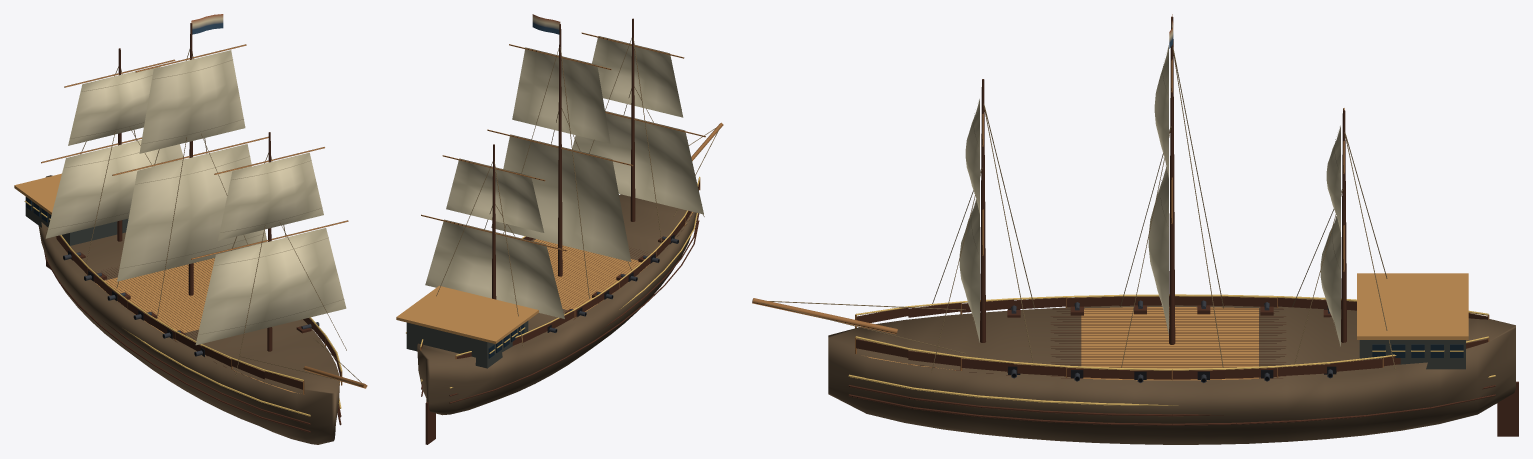
The model's file is voc-lod1.glb.
3 renders of one model, left to right at view 1: azimuth 30°, elevation 25°; view 2: azimuth 150°, elevation 25°; view 3: azimuth 270°, elevation 25°, orthographic. The views are drawn at different scales.
Parts seen in each view (by area): view 1: hull, sail_03, sail_05, sail_04, sail_01, sail_06, deck, sail_02, fittings_wood, fittings_deck, fittings_trim, stern_gallery_body (+6 smaller); view 2: hull, sail_03, sail_01, sail_05, sail_04, fittings_deck, sail_06, sail_02, deck, fittings_wood, fittings_trim, stern_gallery_body (+9 smaller); view 3: hull, fittings_deck, fittings_wood, deck, fittings_trim, sail_03, sail_05, stern_gallery_body, sail_01, mast_timber_02, fittings_iron, mast_timber_03 (+5 smaller).
Part boxes in pixels (left/top/right/bottom): hull: left=38, top=175, right=339, bottom=444; sail_03: left=117, top=144, right=267, bottom=281; sail_05: left=195, top=228, right=346, bottom=345; sail_04: left=139, top=50, right=245, bottom=153; sail_01: left=45, top=139, right=183, bottom=238; sail_06: left=218, top=152, right=323, bottom=240; deck: left=96, top=258, right=340, bottom=393; sail_02: left=68, top=66, right=159, bottom=145; fittings_wood: left=44, top=235, right=367, bottom=432; fittings_deck: left=14, top=173, right=314, bottom=384; fittings_trim: left=24, top=48, right=361, bottom=416; stern_gallery_body: left=25, top=201, right=128, bottom=245; hull: left=417, top=194, right=696, bottom=415; sail_03: left=491, top=134, right=631, bottom=261; sail_01: left=425, top=219, right=564, bottom=318; sail_05: left=572, top=111, right=703, bottom=214; sail_04: left=512, top=47, right=610, bottom=143; fittings_deck: left=396, top=213, right=692, bottom=343; sail_06: left=592, top=36, right=683, bottom=117; sail_02: left=446, top=158, right=544, bottom=232; deck: left=533, top=212, right=692, bottom=311; fittings_wood: left=420, top=122, right=723, bottom=403; fittings_trim: left=406, top=38, right=719, bottom=388; stern_gallery_body: left=406, top=321, right=528, bottom=368; hull: left=828, top=305, right=1515, bottom=444; fittings_deck: left=900, top=273, right=1468, bottom=378; fittings_wood: left=752, top=296, right=1495, bottom=425; deck: left=867, top=307, right=1258, bottom=380; fittings_trim: left=761, top=47, right=1495, bottom=405; sail_03: left=1148, top=166, right=1168, bottom=334; sail_05: left=959, top=199, right=979, bottom=342; stern_gallery_body: left=1359, top=340, right=1465, bottom=369; sail_01: left=1320, top=216, right=1340, bottom=346; mast_timber_02: left=1169, top=16, right=1175, bottom=344; fittings_iron: left=1008, top=308, right=1463, bottom=379; mast_timber_03: left=980, top=79, right=985, bottom=342.
Bounding box in the file's own units: 12.7 × 27.1 × 44.62.
